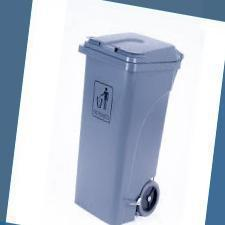Bote de Basura: (73, 31, 183, 224)
